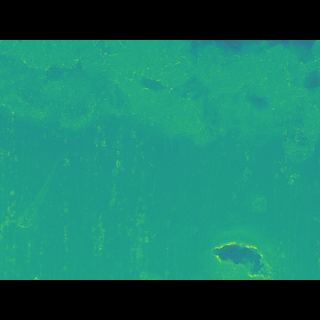Loch: (0, 69, 320, 162), (197, 214, 282, 249)
